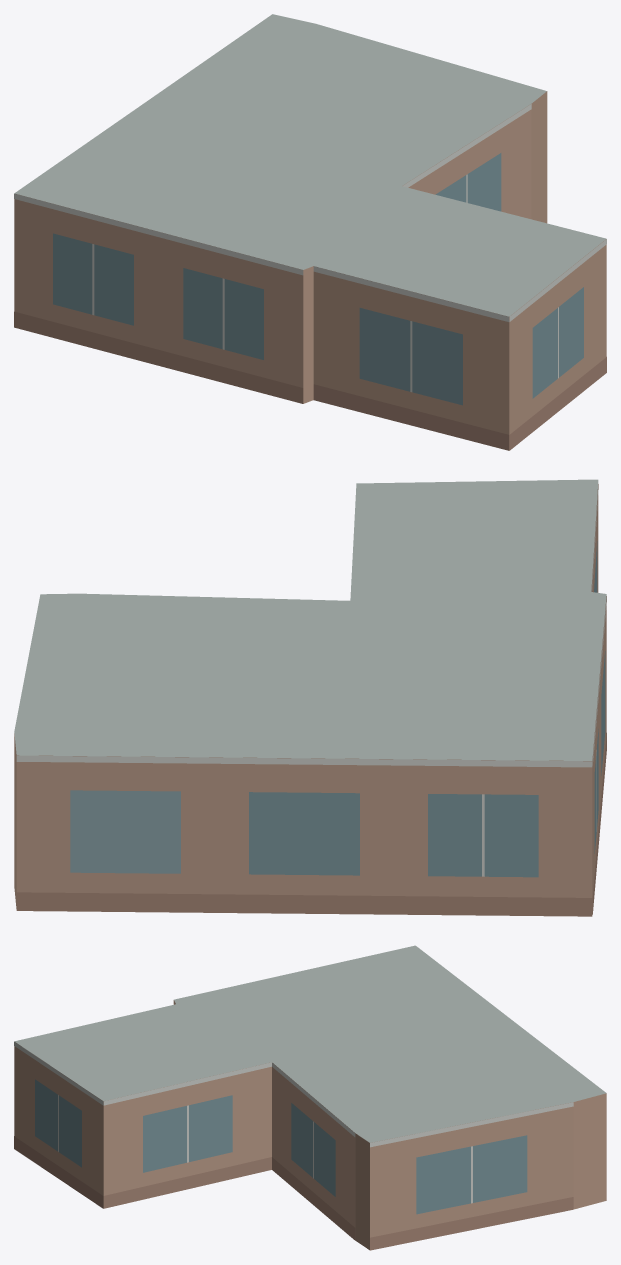
File: survey-upis-32491488.glb
3 views of the same model, one above another, from view 1: azimuth 30°, elevation 25°; view 2: azimuth 150°, elevation 25°; view 3: azimuth 270°, elevation 25° (orthographic). The views are drawn at different scales.
Parts seen in each view (by area): view 1: survey-upis-32491488.tmp; view 2: survey-upis-32491488.tmp; view 3: survey-upis-32491488.tmp.
Boxes of the visible parts, left/top/right/bottom form: survey-upis-32491488.tmp: left=14, top=14, right=606, bottom=450; survey-upis-32491488.tmp: left=14, top=479, right=606, bottom=916; survey-upis-32491488.tmp: left=14, top=945, right=606, bottom=1250.
Bounding box in the file's own units: 12.03 × 3.05 × 15.25.
